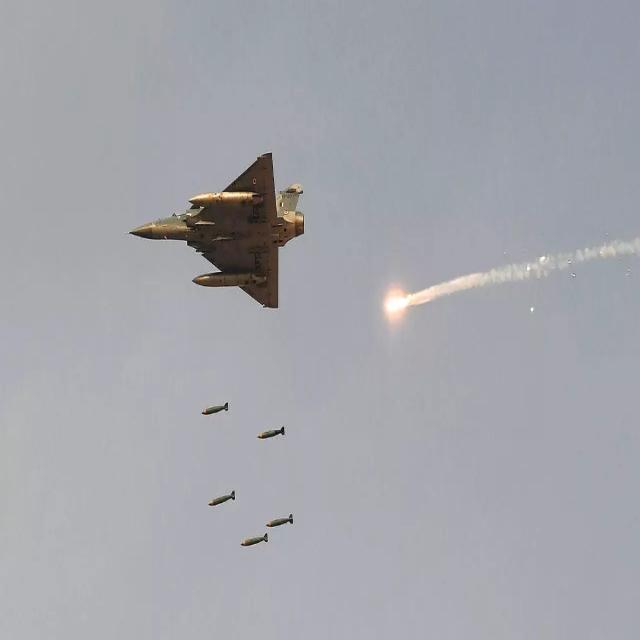MIL_Plane: (123, 152, 304, 308)
